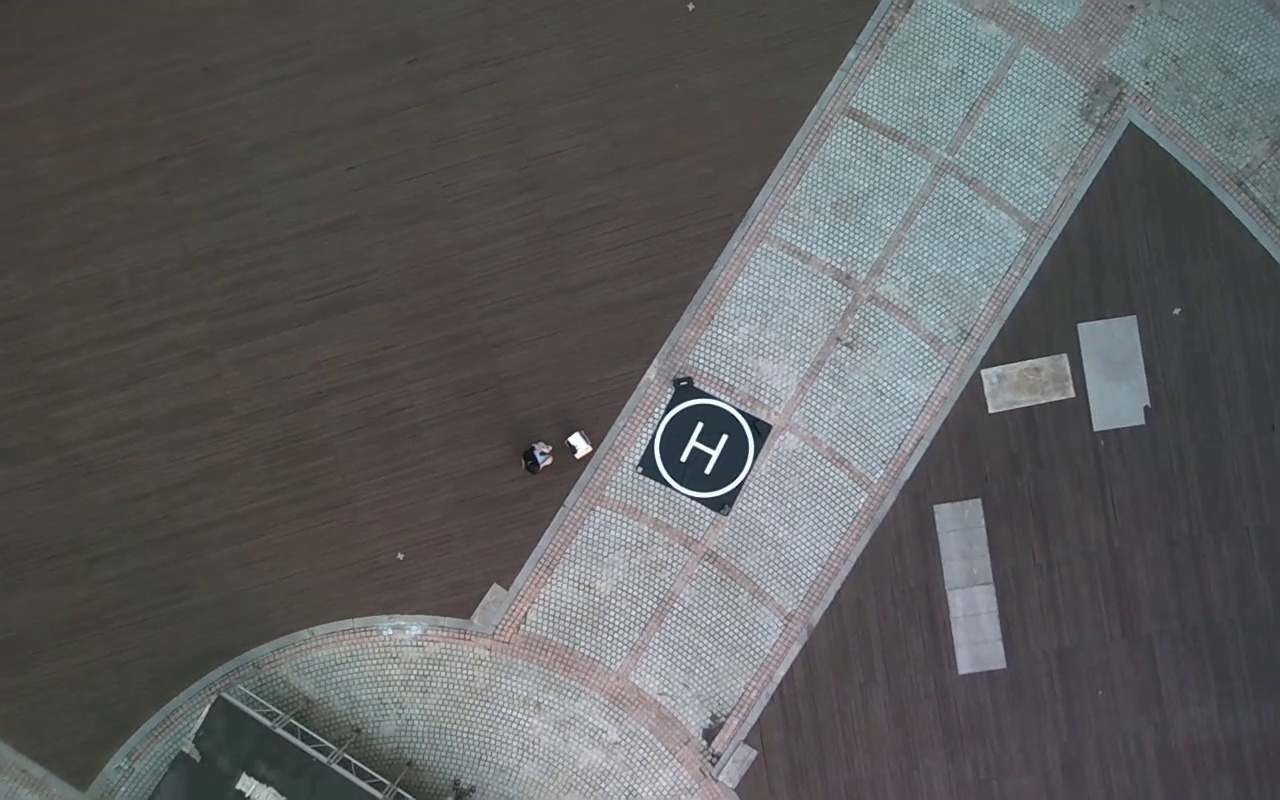H: (678, 421, 729, 474)
heliport: (652, 398, 753, 494)
